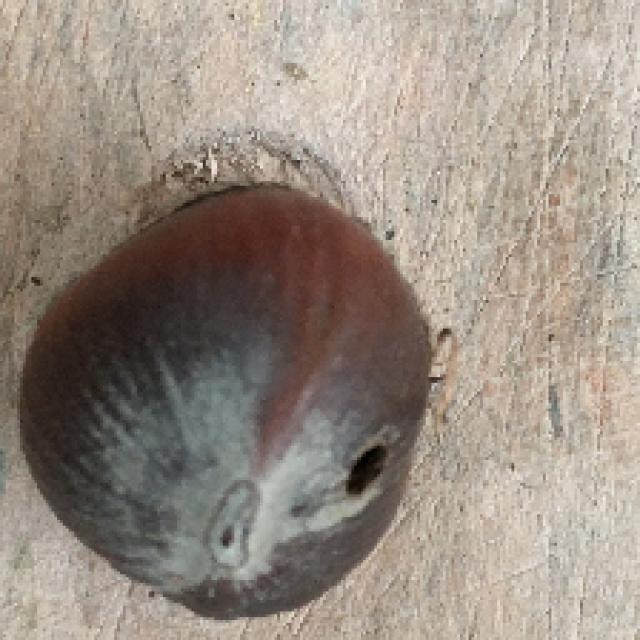damagedHazelnut: (27, 188, 440, 630)
